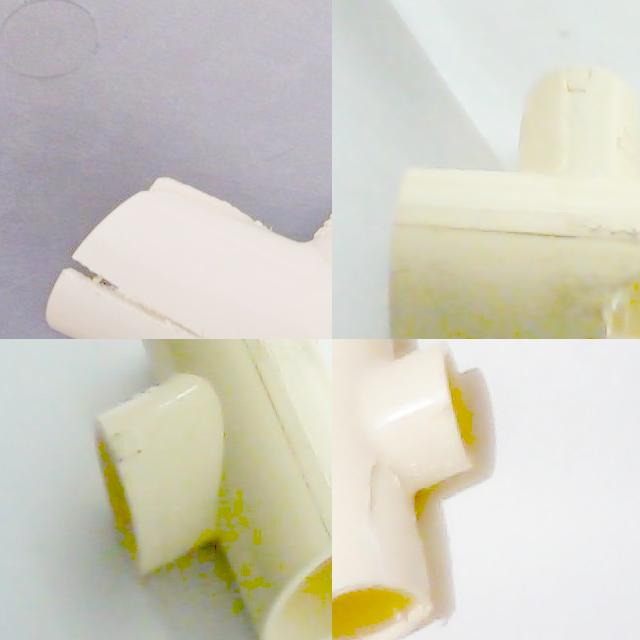Defective: (60, 250, 218, 339), (364, 451, 415, 590), (587, 219, 640, 339), (135, 178, 180, 227)
T Joint: (97, 339, 332, 640), (387, 64, 640, 339), (44, 179, 332, 339), (332, 339, 471, 640)
